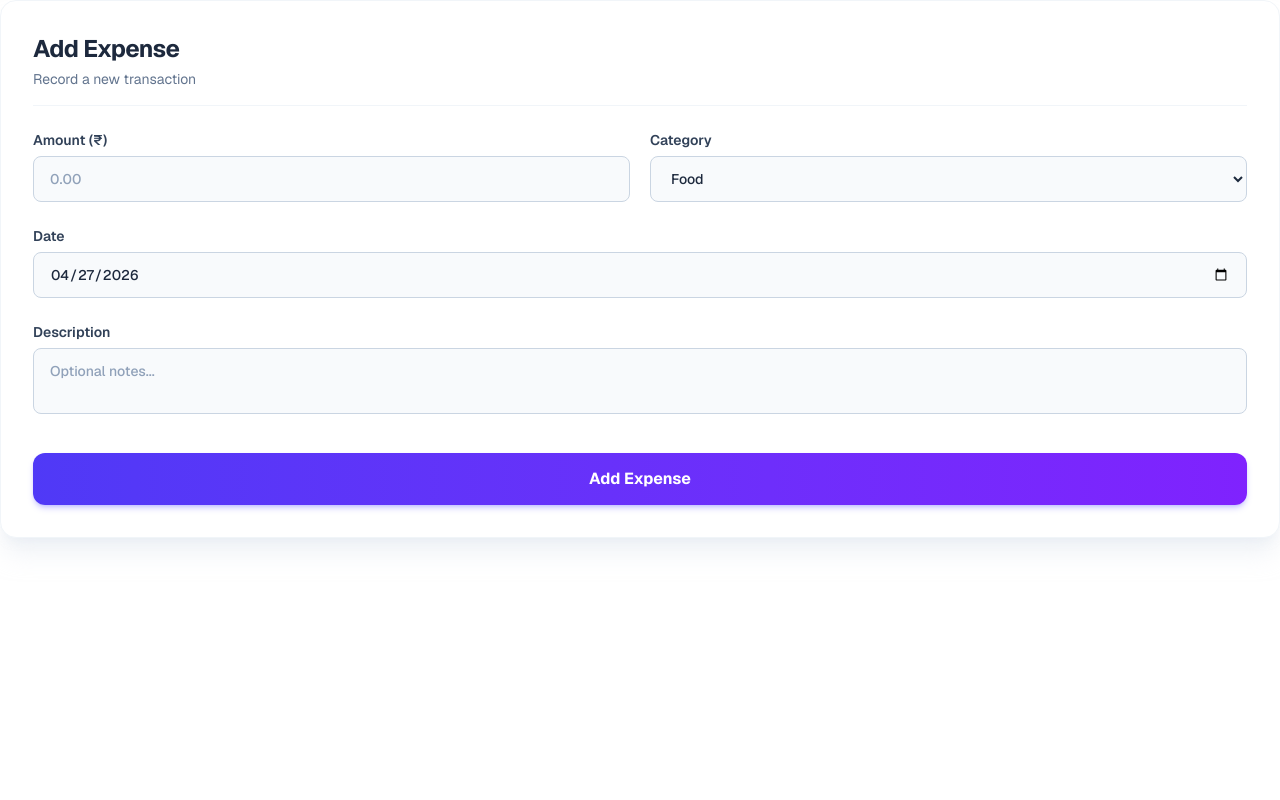
Scenario: ExpenseForm › disables button while submitting
Type "100" into the number field labelled "Amount (₹)".
click(332, 179); type("100")  # box [33, 156, 630, 202]
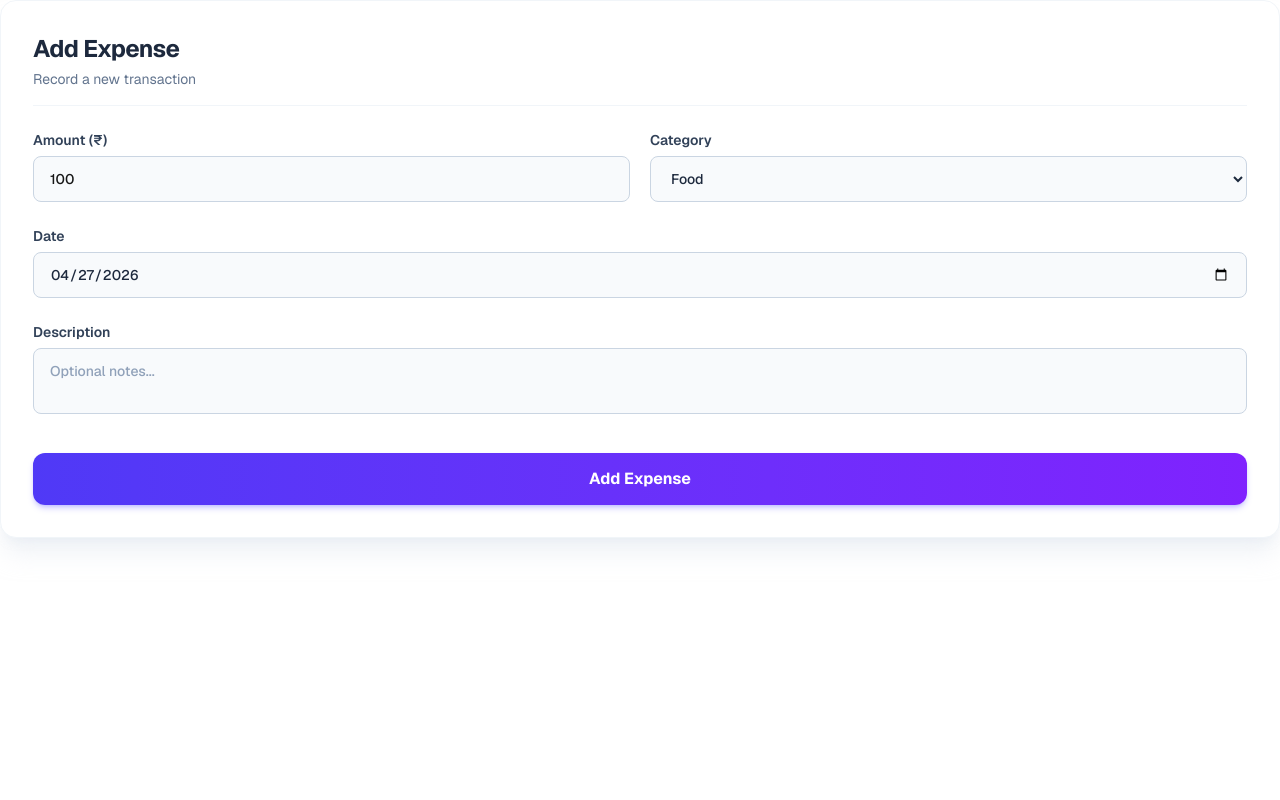
Submit the form
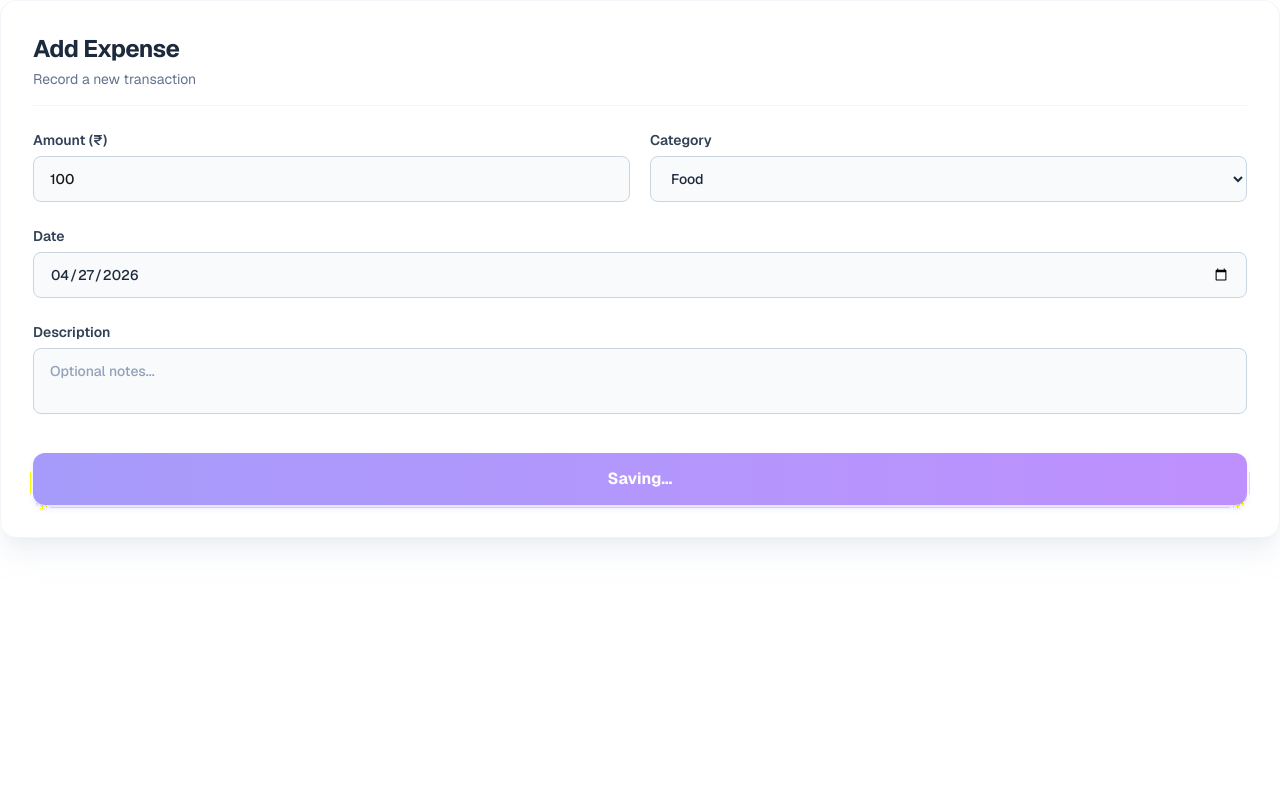
Expected: the button "Saving…" is disabled, [33, 453, 1247, 505]
